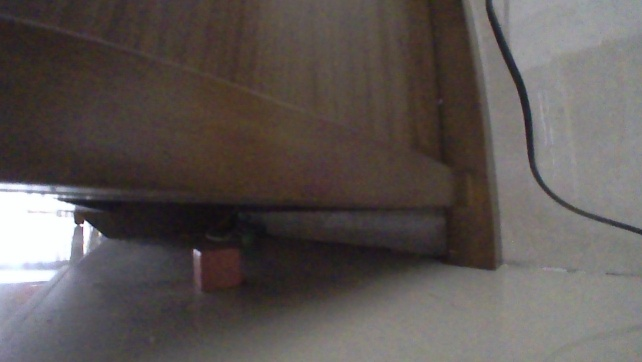wire: (481, 0, 641, 236)
